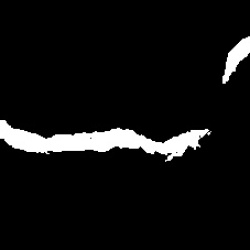crack: (1, 118, 209, 160), (223, 37, 249, 84)
